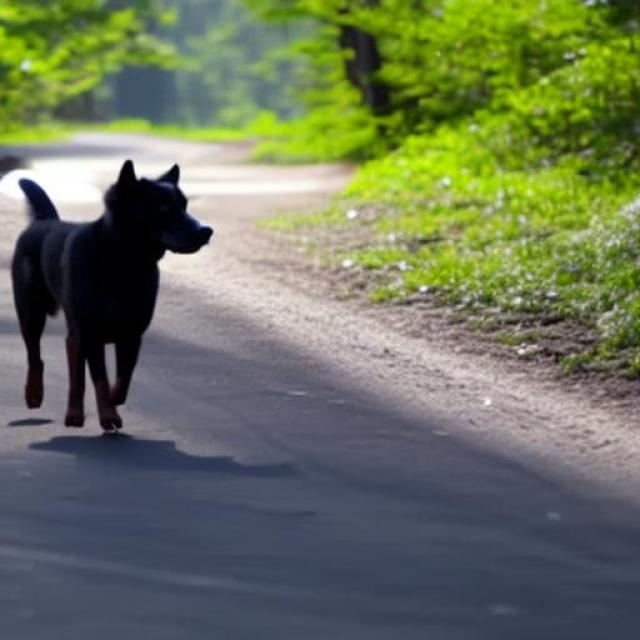Dog: (11, 158, 215, 433)
